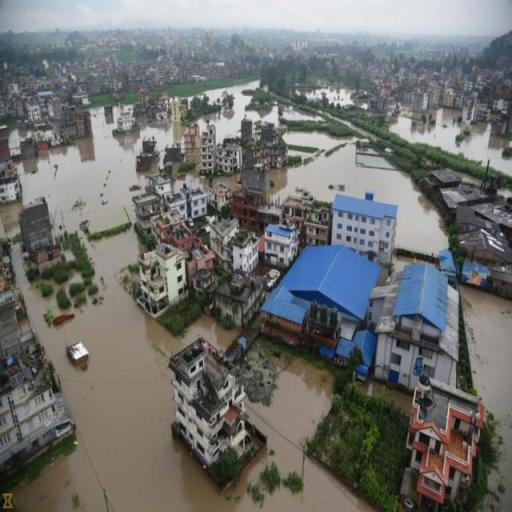flood: (12, 230, 375, 512), (19, 110, 177, 234), (273, 143, 449, 253), (462, 286, 512, 512), (390, 104, 512, 175), (207, 81, 322, 142), (297, 86, 368, 108), (283, 130, 354, 151), (289, 151, 318, 161)
house: (384, 260, 468, 386), (2, 350, 71, 495), (174, 337, 248, 462), (280, 245, 374, 337), (426, 386, 480, 504), (332, 192, 396, 258), (142, 241, 188, 310), (19, 198, 60, 263), (216, 271, 257, 329), (458, 228, 512, 266), (260, 222, 299, 268), (185, 236, 220, 282), (233, 188, 273, 225), (229, 230, 259, 276), (306, 200, 331, 246), (212, 141, 242, 177), (52, 111, 92, 136), (432, 81, 471, 106), (208, 215, 231, 256), (262, 132, 286, 170), (133, 190, 162, 220), (280, 194, 305, 224), (0, 166, 19, 205), (164, 192, 186, 224), (188, 186, 208, 218), (185, 124, 201, 160), (168, 96, 189, 122), (203, 124, 214, 171), (22, 99, 43, 122), (117, 110, 135, 132)
